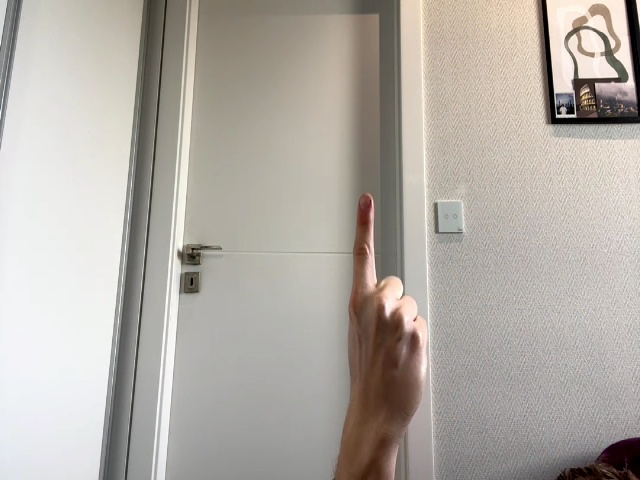D: (347, 194, 427, 439)
